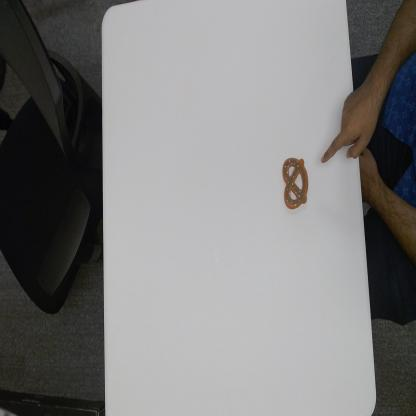Hand: (321, 66, 376, 172)
Pretzel: (281, 150, 310, 211)
